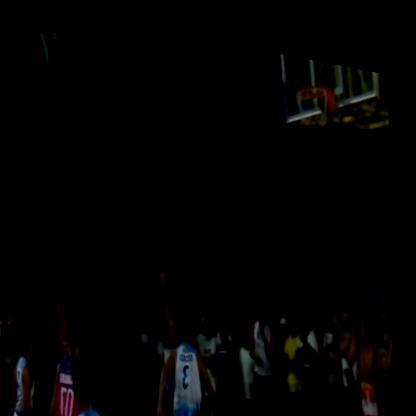basketball: (158, 250, 183, 301)
rim: (287, 50, 347, 161)
